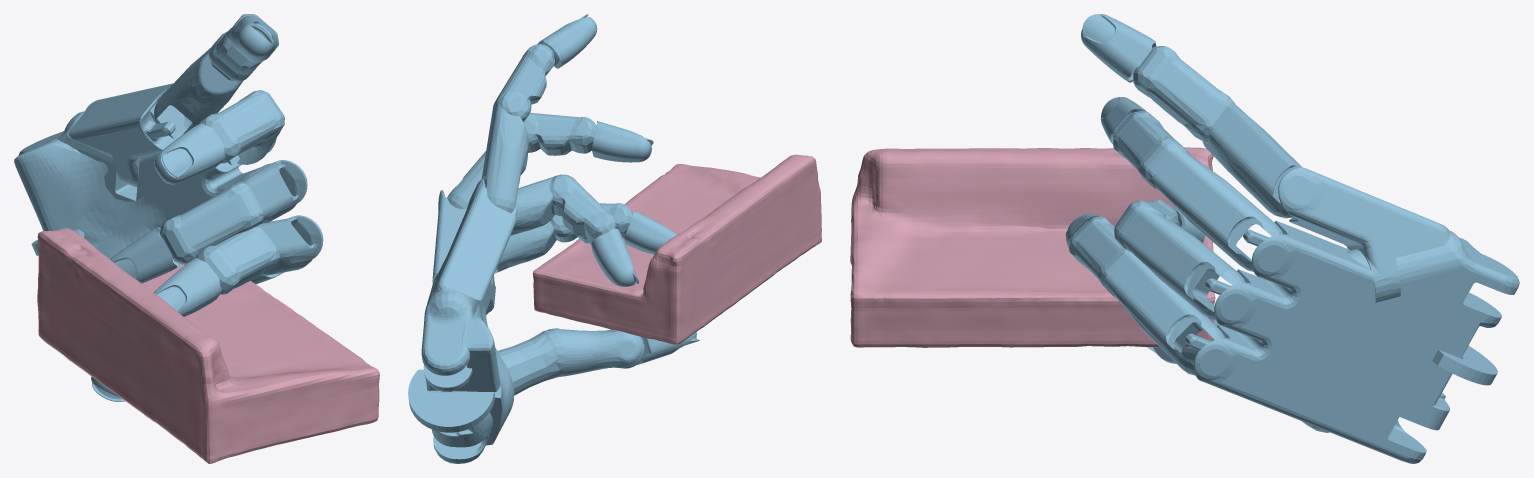
3 views of the same model, side by side, from view 1: azimuth 30°, elevation 25°; view 2: azimuth 150°, elevation 25°; view 3: azimuth 270°, elevation 25° (orthographic). The views are drawn at different scales.
Visible parts, largest first — view 1: hand_isaac_q, world; view 2: hand_isaac_q, world; view 3: hand_isaac_q, world.
Boxes of the visible parts, <box> form: hand_isaac_q: <box>14,14,323,401</box>; world: <box>37,228,379,463</box>; hand_isaac_q: <box>408,14,699,463</box>; world: <box>532,154,821,344</box>; hand_isaac_q: <box>1065,14,1519,463</box>; world: <box>850,147,1215,347</box>.
Size of the model in its own units: 0.123 by 0.1771 by 0.2429.
